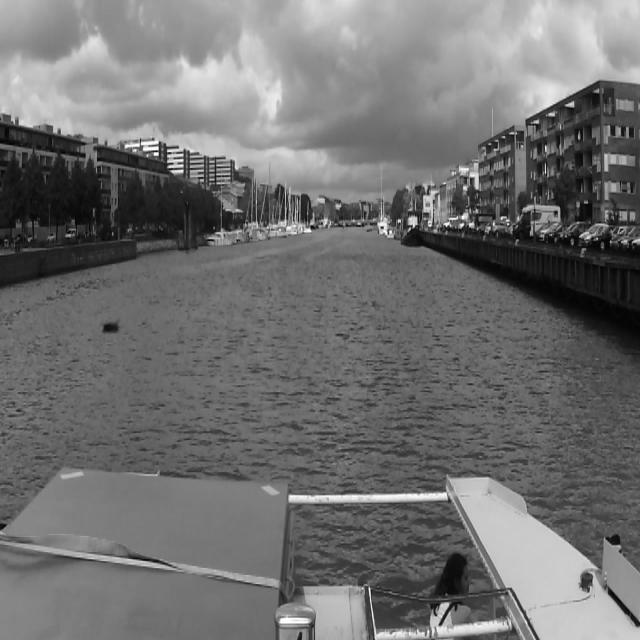ship: (239, 174, 267, 239), (400, 184, 424, 252), (270, 176, 290, 242), (289, 186, 306, 245), (363, 220, 387, 233), (385, 223, 395, 241), (364, 221, 376, 232)
